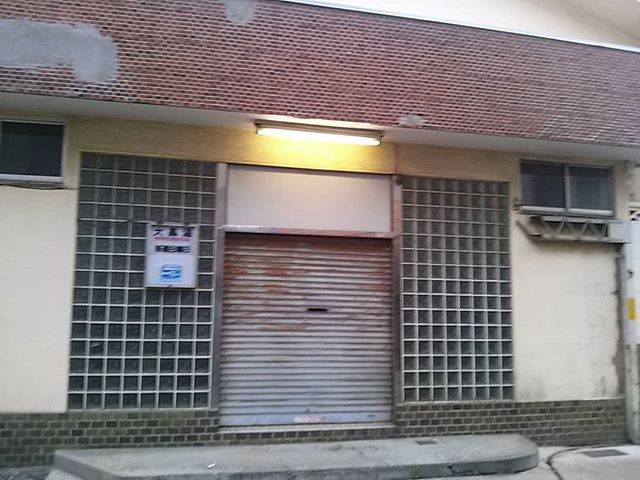building: (1, 1, 635, 441)
